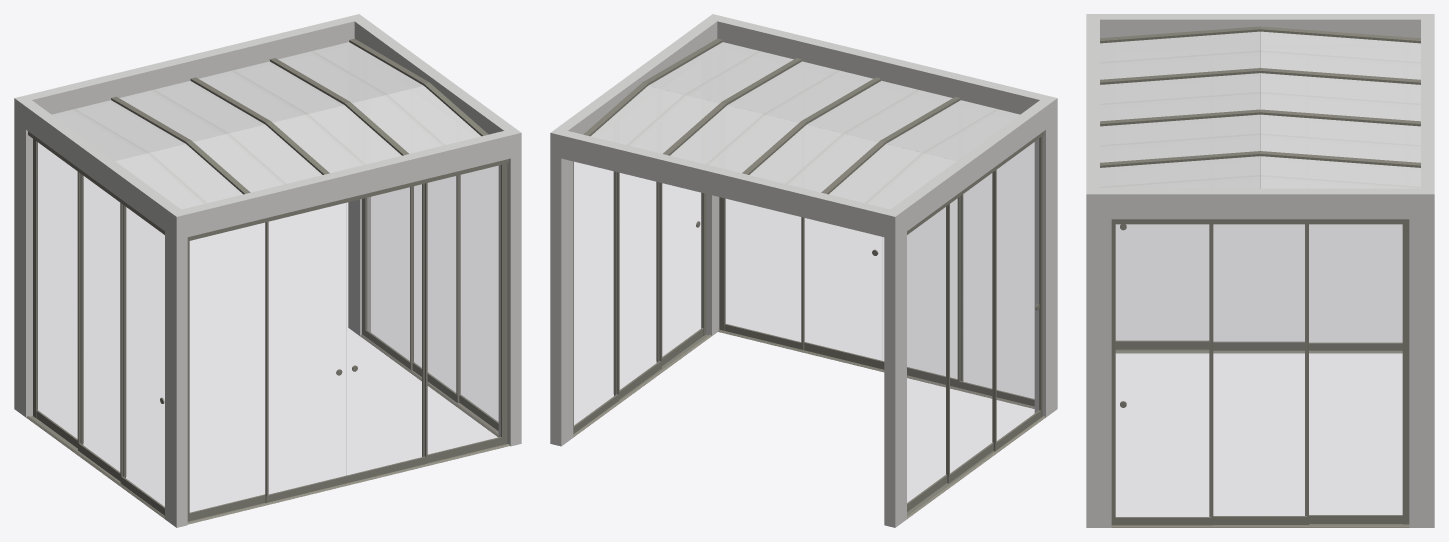
Rendered from agp_h27-w30-d24_matwhite.fbx.
3 views of the same model, side by side, from view 1: azimuth 30°, elevation 25°; view 2: azimuth 150°, elevation 25°; view 3: azimuth 270°, elevation 25° (orthographic). The views are drawn at different scales.
Visible parts, largest first — view 1: agp_h27-w30-d24_darkpine.007; view 2: agp_h27-w30-d24_darkpine.007; view 3: agp_h27-w30-d24_darkpine.007.
Boxes of the visible parts, x1,y1,x2,y2 form: agp_h27-w30-d24_darkpine.007: (14,14,521,527); agp_h27-w30-d24_darkpine.007: (550,14,1057,527); agp_h27-w30-d24_darkpine.007: (1086,14,1434,527).
Bounding box in the file's own units: 313 × 270 × 255.
4 materials, 2 textured.
